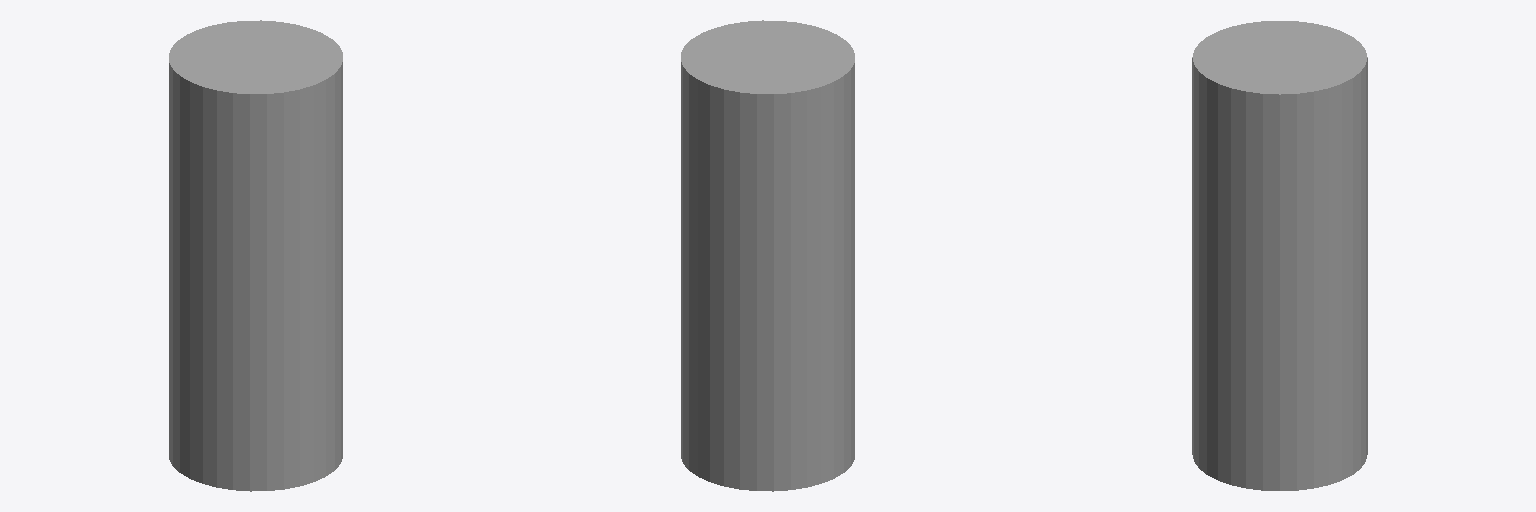
URDF robot description (my_robot):
<?xml version="1.0"?>
<robot name="my_robot">

  <link name="base_link"/>

  <link name="upper_arm_link">
    <inertial>
      <origin xyz="0 0 -0.1" rpy="0 0 0"/>
      <mass value="1.0"/>
      <inertia
        ixx="0.01" ixy="0" ixz="0"
        iyy="0.01" iyz="0"
        izz="0.002"/>
    </inertial>

    <visual>
      <origin xyz="0 0 -0.1" rpy="0 0 0"/>
      <geometry>
        <cylinder radius="0.04" length="0.2"/>
      </geometry>
      <material name="arm_color">
        <color rgba="0.7 0.7 0.7 1"/>
      </material>
    </visual>

    <collision>
      <origin xyz="0 0 -0.1" rpy="0 0 0"/>
      <geometry>
        <cylinder radius="0.04" length="0.2"/>
      </geometry>
    </collision>
  </link>

  <joint name="shoulder_joint" type="revolute">
    <parent link="base_link"/>
    <child link="upper_arm_link"/>
    <origin xyz="0 0 0.3" rpy="0 0 0"/>
    <axis xyz="0 1 0"/>
    <limit lower="-1.57"
           upper="1.57"
           effort="20"
           velocity="2"/>
  </joint>

</robot>

--- What the picture shows (computed from the rendered views, not written in the file) ---
3 views of the same robot in one strip: view 1: azimuth 30°, elevation 25°; view 2: azimuth 150°, elevation 25°; view 3: azimuth 270°, elevation 25° (orthographic).
Robot: my_robot — 2 links, 1 joints (1 revolute); root link base_link; default pose: all joints at 0.
Visible links, largest first — view 1: upper_arm_link; view 2: upper_arm_link; view 3: upper_arm_link.
Boxes of the visible links, left/top/right/bottom form: upper_arm_link: left=169, top=20, right=342, bottom=491; upper_arm_link: left=681, top=20, right=854, bottom=491; upper_arm_link: left=1192, top=21, right=1367, bottom=490.
Bounding box of the posed robot: 0.08 × 0.08 × 0.2 m (x, y, z).
Geometry: primitives only (box / cylinder / sphere), no mesh files.
